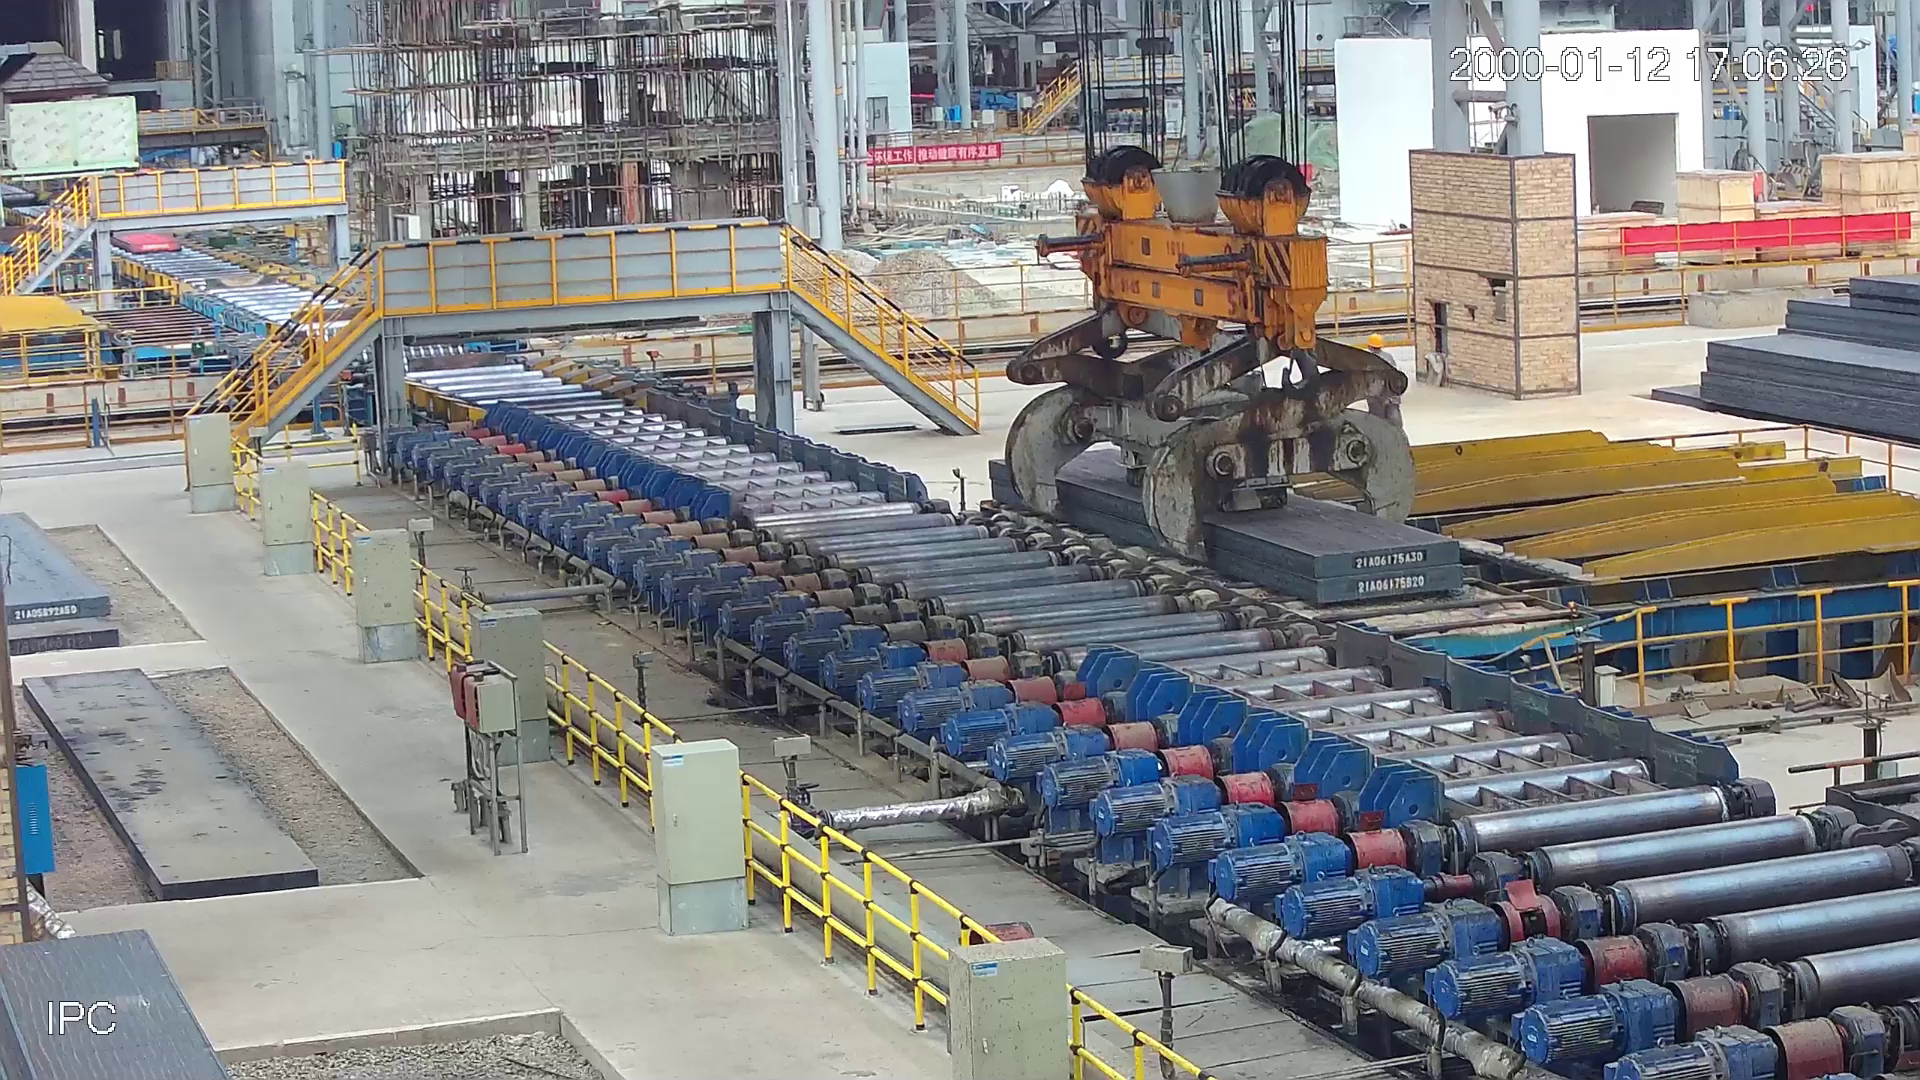craneandslab: (992, 150, 1462, 601)
